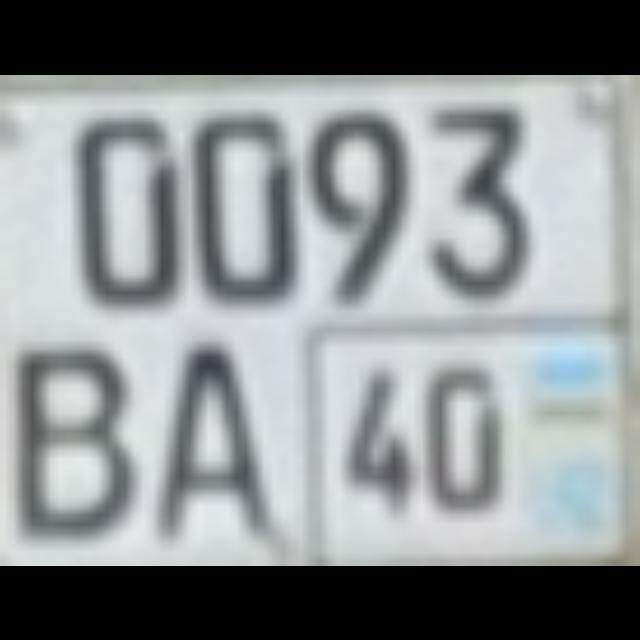0: (176, 101, 298, 296), (66, 101, 176, 296), (417, 352, 491, 500)
3: (418, 92, 528, 288)
4: (334, 352, 408, 500)
9: (296, 101, 408, 296)
A: (148, 334, 260, 528)
B: (10, 333, 120, 519)
